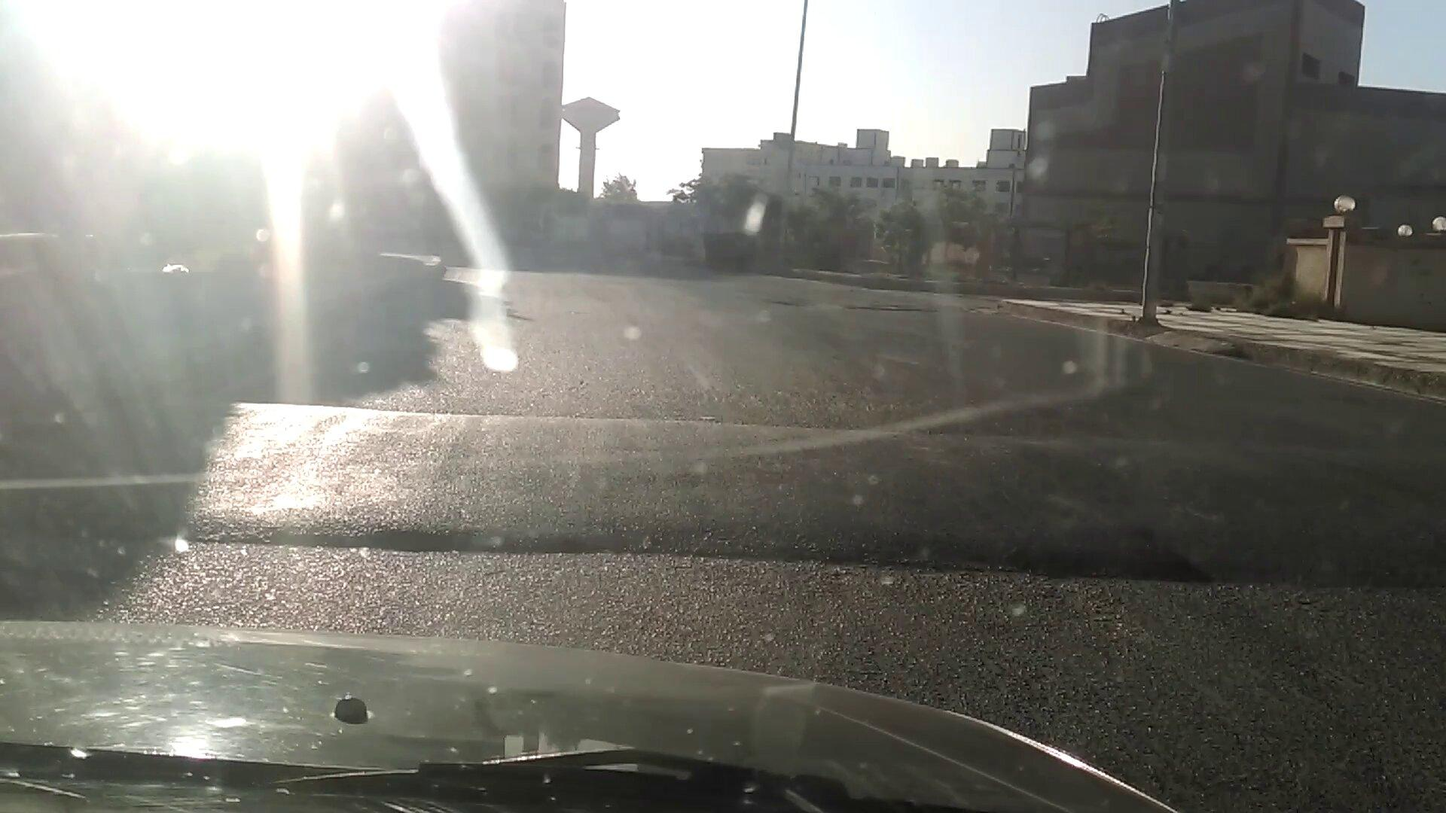Bump: (207, 393, 1446, 595)
